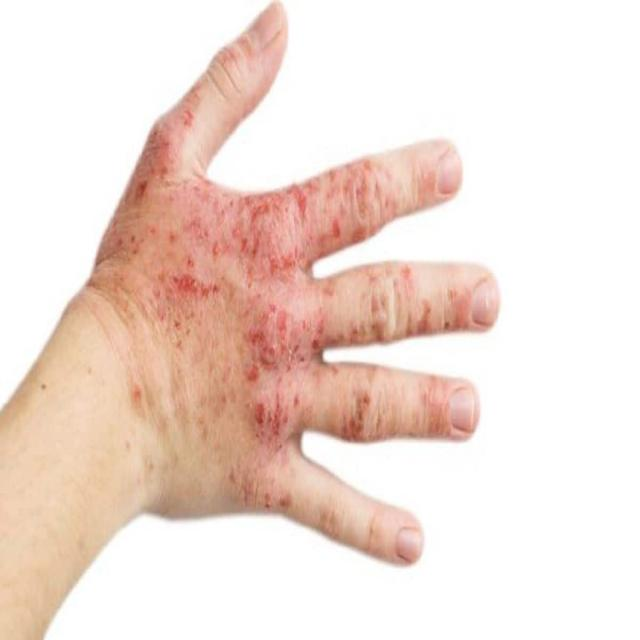eczema: (117, 205, 343, 430)
